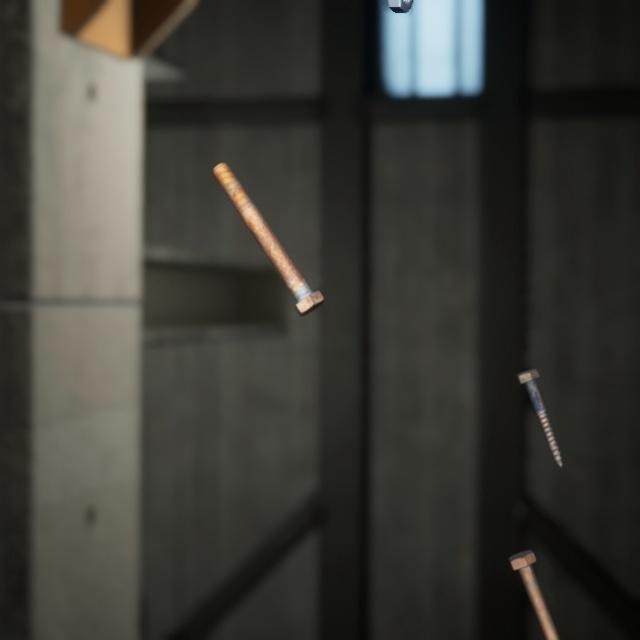bolt: (207, 141, 329, 304), (503, 522, 573, 640), (511, 344, 567, 452)
